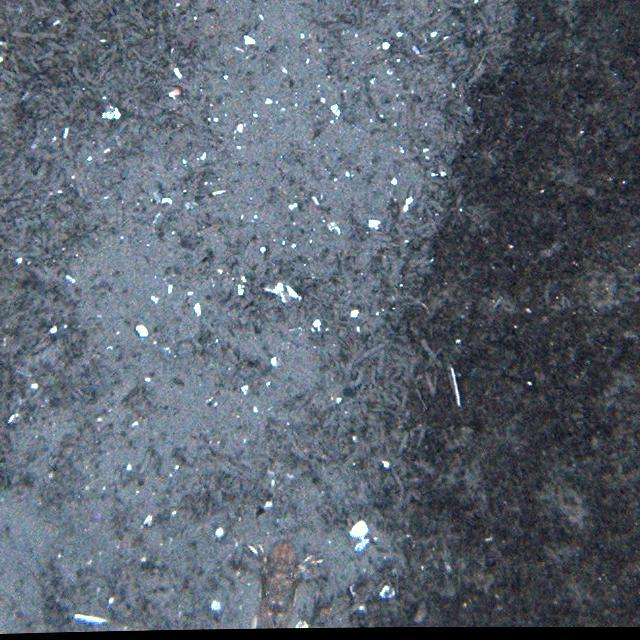roundfish: (248, 538, 310, 629)
